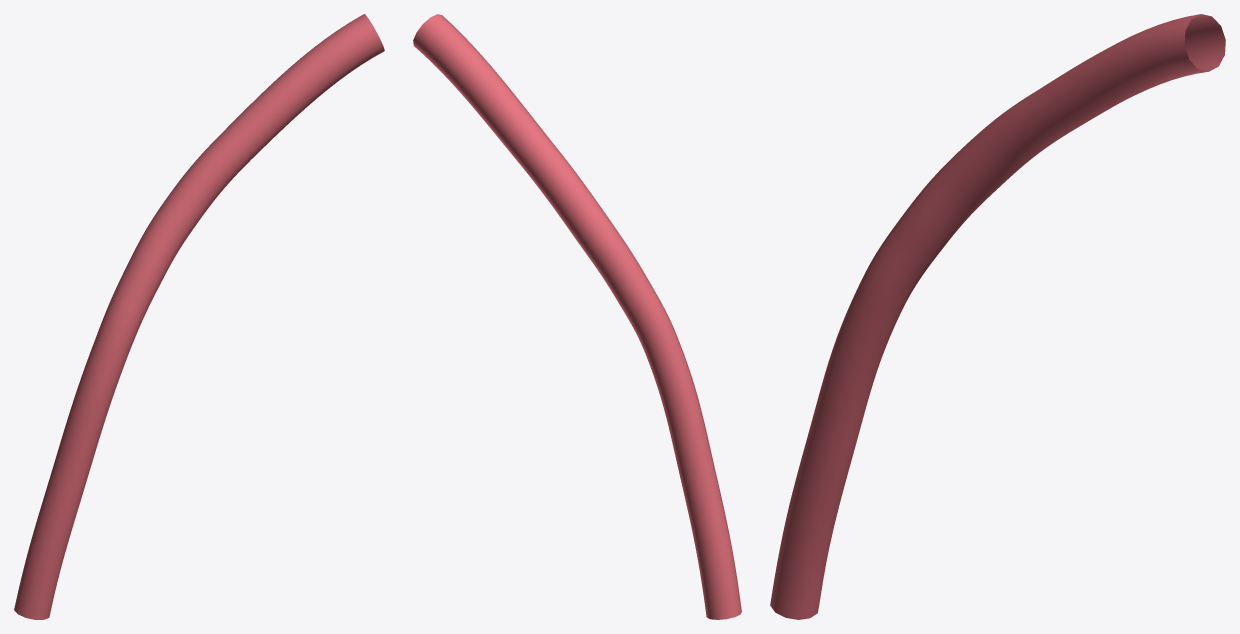
3 views of the same model, side by side, from view 1: azimuth 30°, elevation 25°; view 2: azimuth 150°, elevation 25°; view 3: azimuth 330°, elevation 25° (orthographic). The views are drawn at different scales.
Visible parts, largest first — view 1: ZA_4036b65e72b76e5a; view 2: ZA_4036b65e72b76e5a; view 3: ZA_4036b65e72b76e5a.
Boxes of the visible parts, bbox=[...] form: ZA_4036b65e72b76e5a: bbox=[14, 14, 384, 619]; ZA_4036b65e72b76e5a: bbox=[413, 14, 741, 619]; ZA_4036b65e72b76e5a: bbox=[770, 14, 1225, 619].
Bounding box in the file's own units: 0.0646 × 0.0947 × 0.012.
